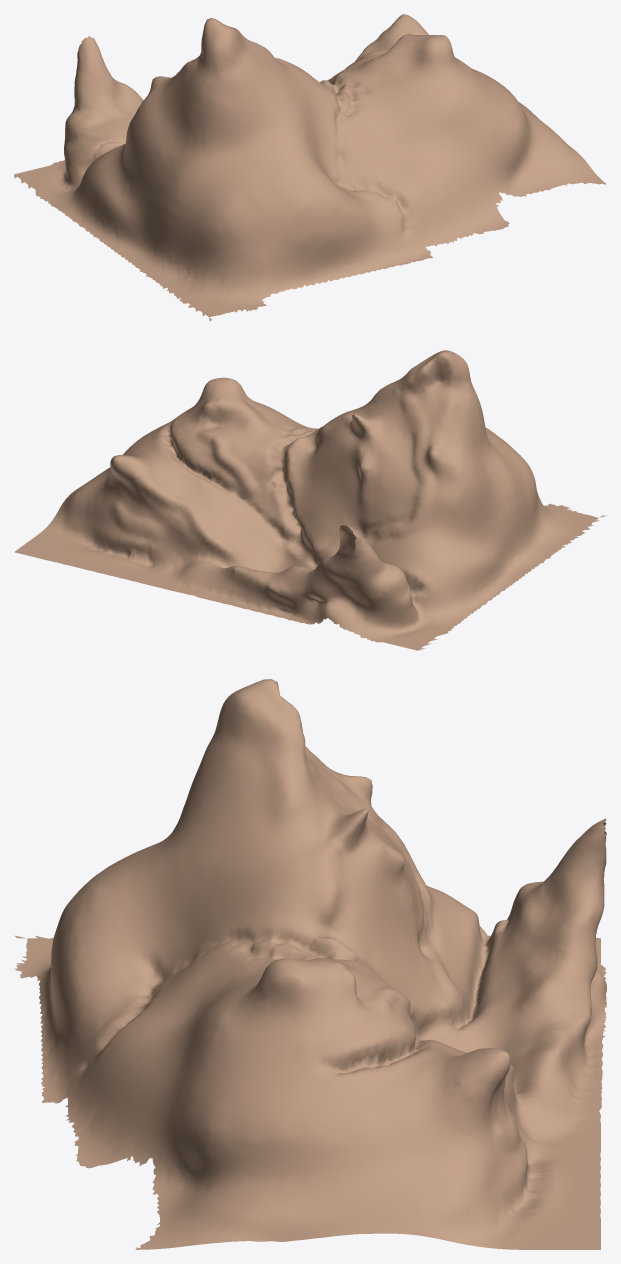
The model's file is Mountain1_Highpoly.fbx.
3 views of the same model, one above another, from view 1: azimuth 30°, elevation 25°; view 2: azimuth 150°, elevation 25°; view 3: azimuth 270°, elevation 25° (orthographic). The views are drawn at different scales.
Parts seen in each view (by area): view 1: plane_Copy_Copy; view 2: plane_Copy_Copy; view 3: plane_Copy_Copy.
Boxes of the visible parts, x1=… form: plane_Copy_Copy: x1=14, y1=14, x2=606, y2=320; plane_Copy_Copy: x1=14, y1=350, x2=606, y2=650; plane_Copy_Copy: x1=14, y1=679, x2=606, y2=1249.
Size of the model in its own units: 277 by 130 by 217.
